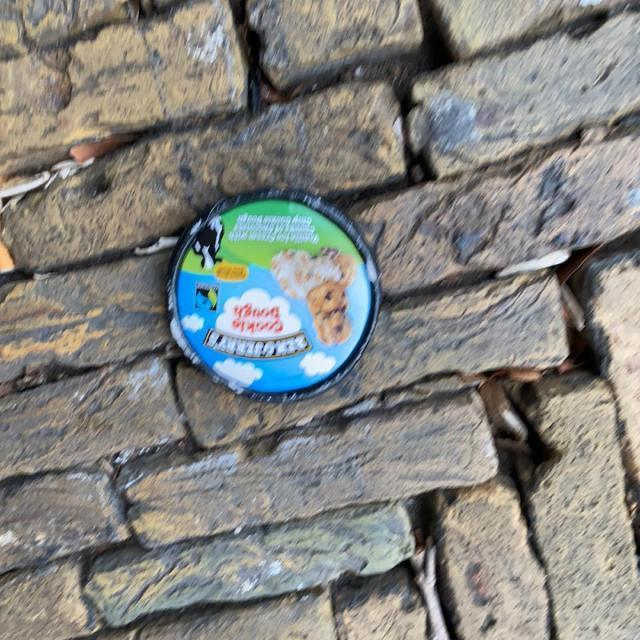Paper: (157, 182, 386, 408)
